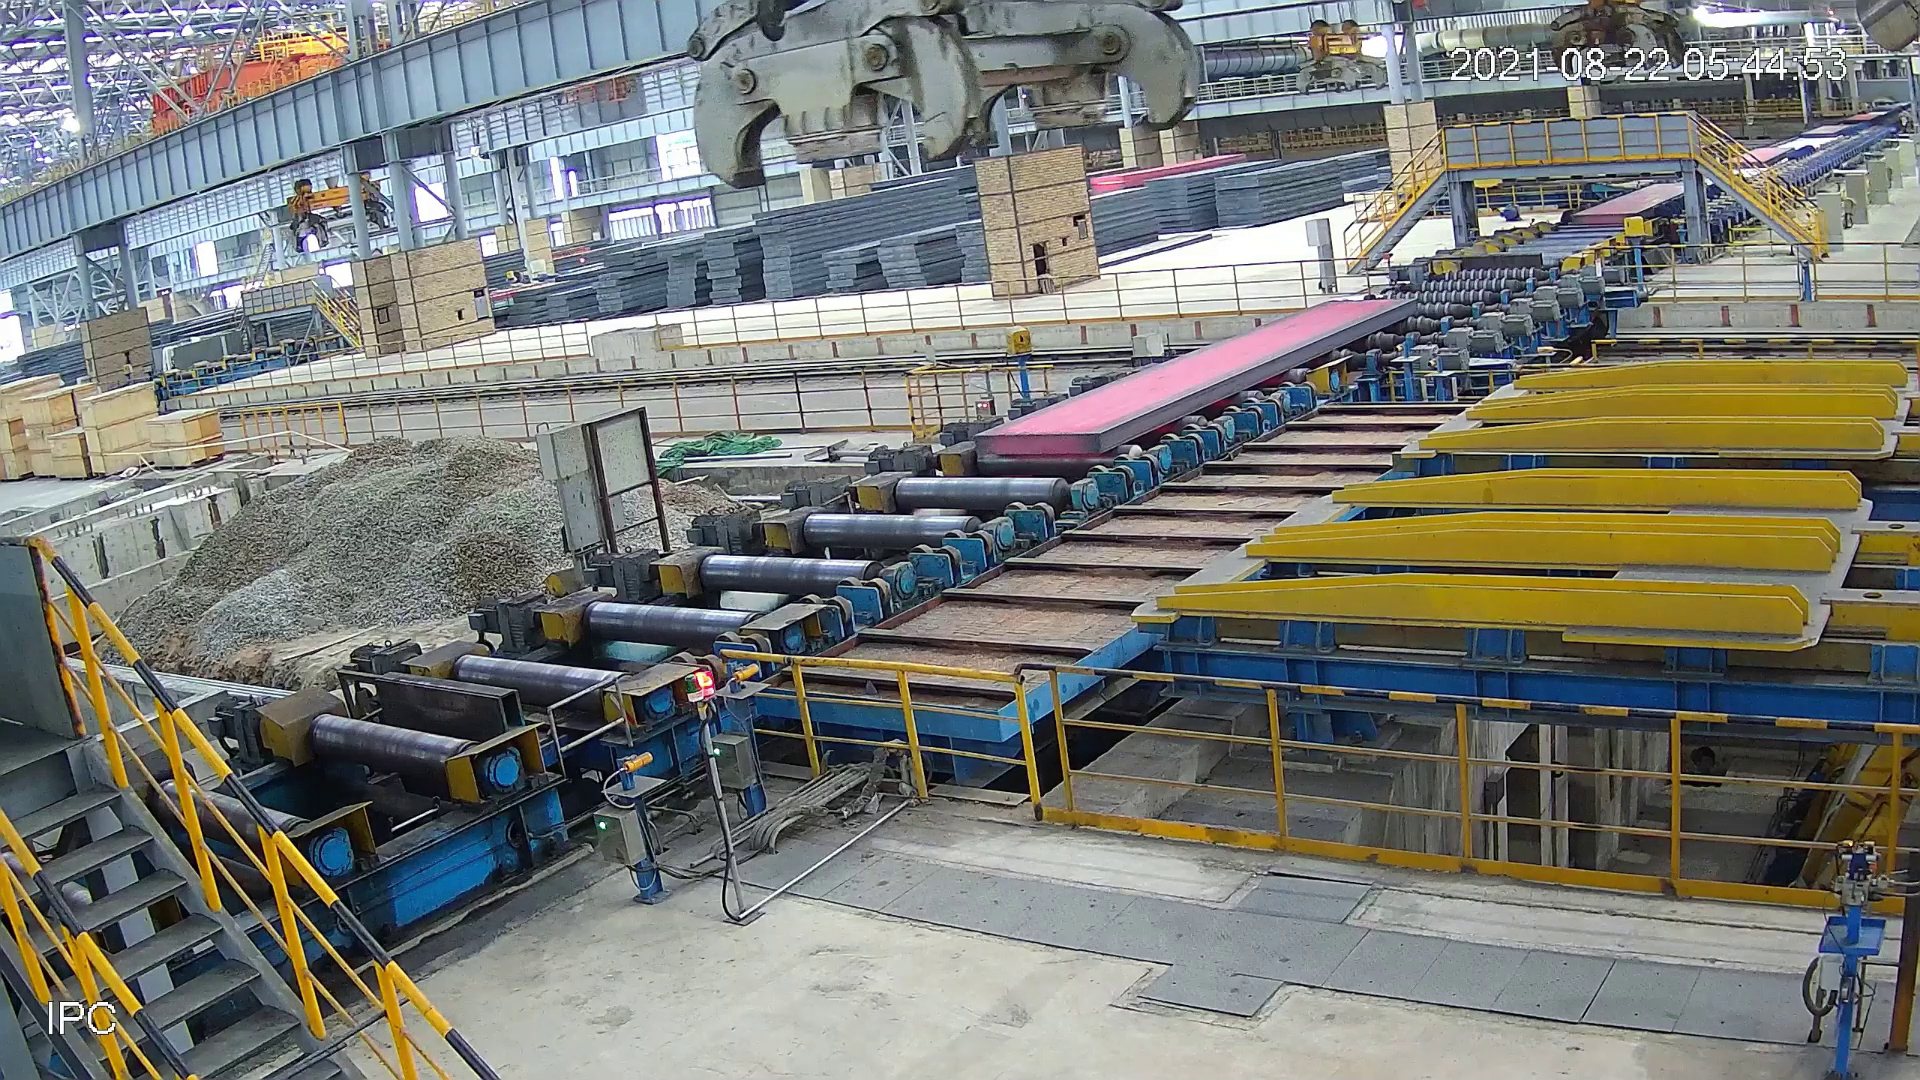crane: (680, 1, 1211, 195), (1545, 1, 1704, 87), (1292, 18, 1378, 102)
slab: (965, 291, 1427, 460), (1563, 173, 1691, 229)
